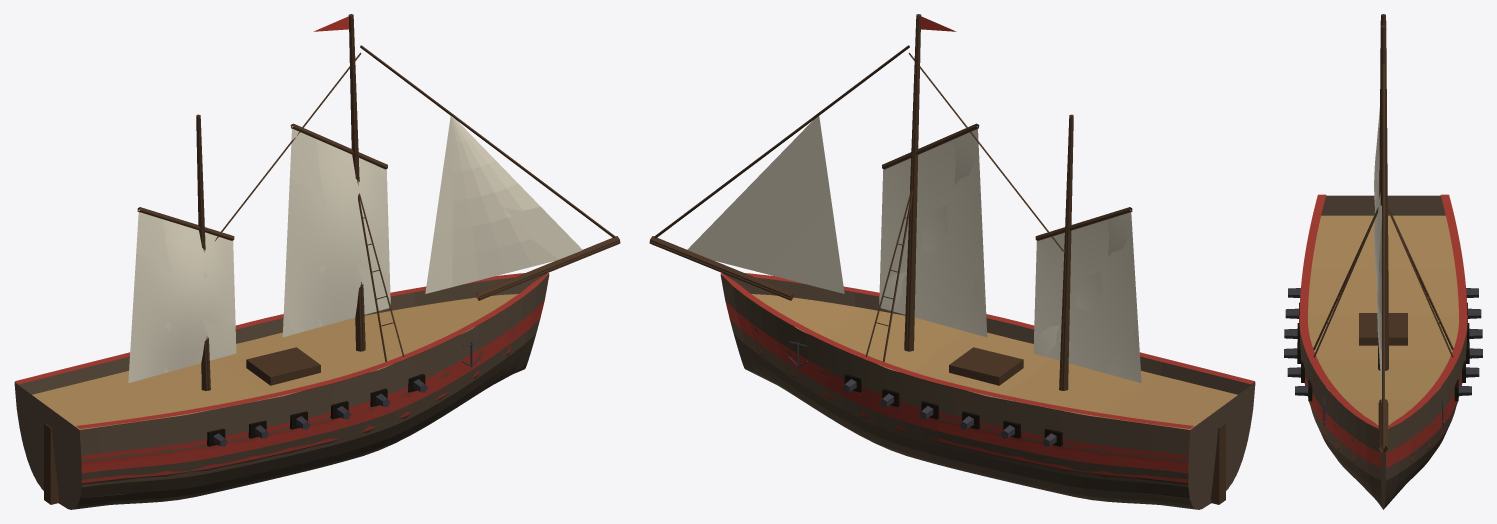
The model's file is lugger.glb.
3 renders of one model, left to right at view 1: azimuth 30°, elevation 25°; view 2: azimuth 150°, elevation 25°; view 3: azimuth 270°, elevation 25°, orthographic.
Visible parts, largest first — view 1: LOD0_Body, LOD2_Body, LOD0_m0_AftSail, LOD0_m1_AftSail, LOD1_Body, LOD1_m0_AftSail, LOD1_m1_AftSail; view 2: LOD0_Body, LOD2_Body, LOD2_m0_AftSail, LOD1_Body, LOD2_m1_AftSail, LOD1_m1_AftSail, LOD0_m0_AftSail, LOD0_m1_AftSail, LOD1_m0_AftSail; view 3: LOD2_Body, LOD0_Body, LOD1_Body, LOD0_m0_AftSail, LOD0_m1_AftSail.
Boxes of the visible parts, x1,y1,x2,y2 form: LOD0_Body: [14, 14, 620, 509]; LOD2_Body: [15, 273, 548, 497]; LOD0_m0_AftSail: [283, 123, 389, 337]; LOD0_m1_AftSail: [128, 207, 235, 382]; LOD1_Body: [17, 16, 620, 509]; LOD1_m0_AftSail: [282, 126, 390, 336]; LOD1_m1_AftSail: [128, 209, 236, 382]; LOD0_Body: [649, 14, 1255, 509]; LOD2_Body: [687, 116, 1254, 499]; LOD2_m0_AftSail: [879, 139, 986, 336]; LOD1_Body: [649, 16, 1252, 509]; LOD2_m1_AftSail: [1034, 219, 1140, 382]; LOD1_m1_AftSail: [1035, 233, 1141, 382]; LOD0_m0_AftSail: [879, 123, 986, 337]; LOD0_m1_AftSail: [1033, 207, 1141, 382]; LOD1_m0_AftSail: [907, 160, 987, 336]; LOD2_Body: [1304, 195, 1462, 507]; LOD0_Body: [1284, 14, 1482, 509]; LOD1_Body: [1299, 15, 1467, 509]; LOD0_m0_AftSail: [1374, 160, 1386, 287]; LOD0_m1_AftSail: [1374, 118, 1379, 206].
Size of the model in its own units: 19.54 by 14 by 5.85.
Materials: 1 (1 with a texture image).
